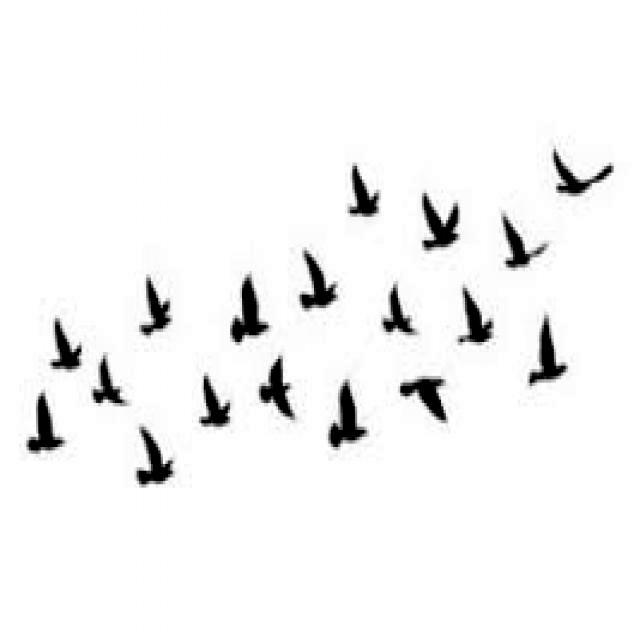bird: (518, 308, 576, 386), (544, 144, 616, 205), (288, 240, 346, 314), (489, 203, 553, 270), (414, 186, 472, 258), (318, 376, 372, 452), (449, 284, 512, 349), (368, 281, 423, 352), (227, 271, 280, 344), (389, 368, 454, 427), (252, 352, 304, 424), (22, 393, 76, 455), (42, 311, 92, 374), (184, 374, 238, 430), (131, 423, 174, 491), (136, 274, 178, 339), (344, 158, 387, 221), (91, 350, 133, 410)
